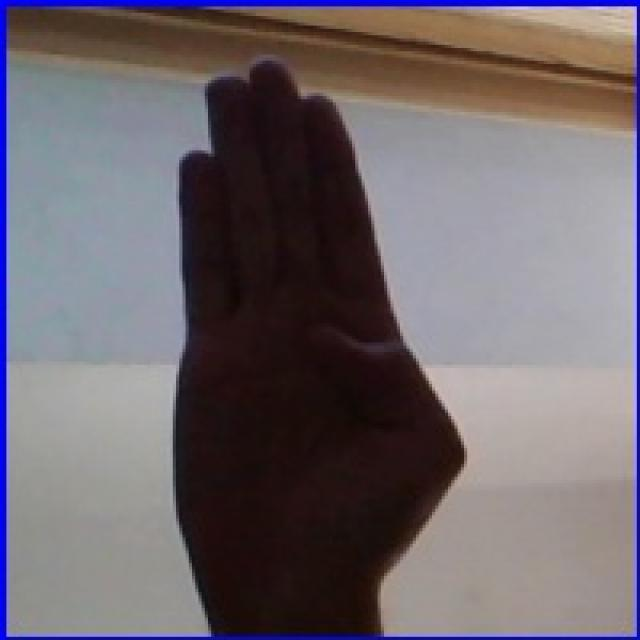Letra B: (116, 51, 474, 628)
